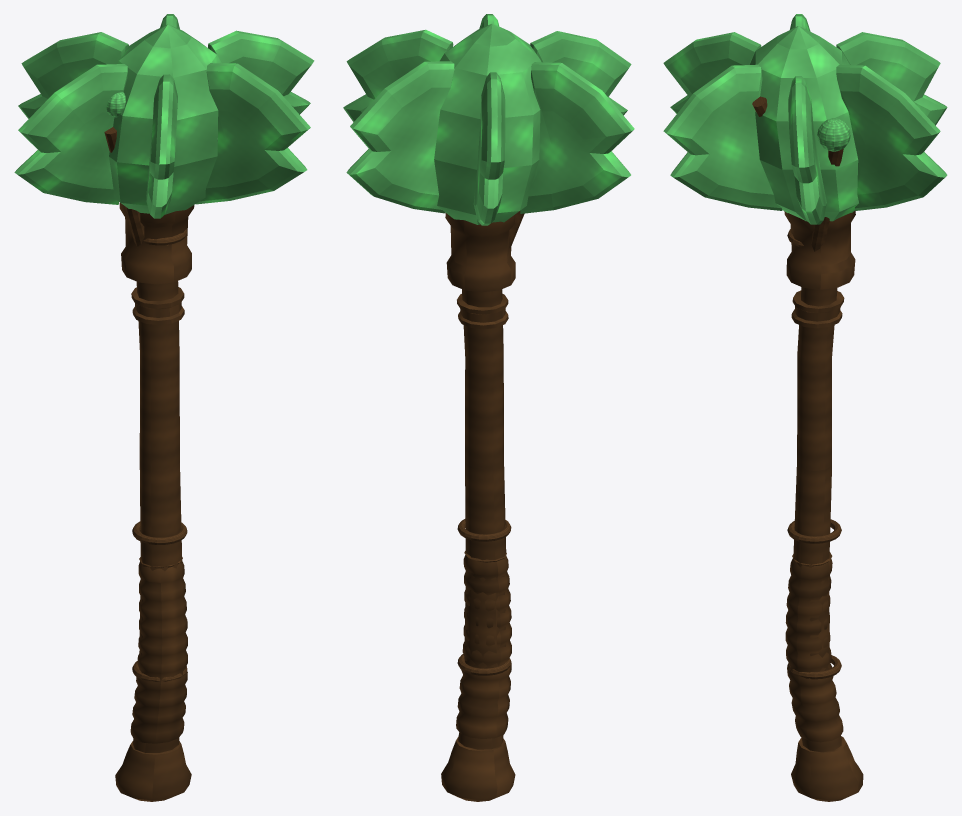
Rendered from underworld-weapon-worldroot-club.glb.
3 views of the same model, side by side, from view 1: azimuth 30°, elevation 25°; view 2: azimuth 150°, elevation 25°; view 3: azimuth 270°, elevation 25° (orthographic). The views are drawn at different scales.
Visible parts, largest first — view 1: head-core, haft, striker-5, striker-3, grip-wrap, neck, striker-2, striker-0, striker-4, pommel, worldroot/head-brace-1, worldroot/grip-collar-1; view 2: head-core, haft, striker-3, striker-1, grip-wrap, neck, striker-0, striker-2, pommel, striker-4, worldroot/grip-collar-1; view 3: head-core, striker-5, striker-1, haft, grip-wrap, neck, striker-2, striker-0, striker-4, pommel, worldroot/spore-node-0, worldroot/head-brace-0 (+1 smaller).
Boxes of the visible parts, x1=… form: head-core: x1=109, y1=24, x2=221, y2=214; haft: x1=133, y1=281, x2=182, y2=752; striker-5: x1=196, y1=63, x2=310, y2=204; striker-3: x1=14, y1=64, x2=127, y2=204; grip-wrap: x1=130, y1=557, x2=187, y2=743; neck: x1=119, y1=203, x2=194, y2=325; striker-2: x1=18, y1=32, x2=128, y2=118; striker-0: x1=208, y1=30, x2=314, y2=114; striker-4: x1=146, y1=74, x2=177, y2=218; pommel: x1=115, y1=741, x2=191, y2=801; worldroot/head-brace-1: x1=104, y1=127, x2=144, y2=246; worldroot/grip-collar-1: x1=132, y1=521, x2=187, y2=544; head-core: x1=434, y1=23, x2=541, y2=224; haft: x1=458, y1=289, x2=506, y2=749; striker-3: x1=520, y1=62, x2=634, y2=213; striker-1: x1=346, y1=61, x2=454, y2=213; grip-wrap: x1=456, y1=551, x2=511, y2=738; neck: x1=445, y1=213, x2=515, y2=329; striker-0: x1=343, y1=29, x2=453, y2=121; striker-2: x1=473, y1=72, x2=505, y2=225; pommel: x1=441, y1=736, x2=515, y2=801; striker-4: x1=530, y1=31, x2=631, y2=115; worldroot/grip-collar-1: x1=457, y1=519, x2=511, y2=541; head-core: x1=750, y1=26, x2=858, y2=221; striker-5: x1=663, y1=64, x2=782, y2=210; striker-1: x1=836, y1=64, x2=947, y2=210; haft: x1=793, y1=287, x2=841, y2=752; grip-wrap: x1=785, y1=552, x2=843, y2=742; neck: x1=784, y1=210, x2=855, y2=328; striker-2: x1=836, y1=32, x2=947, y2=125; striker-0: x1=788, y1=76, x2=826, y2=224; striker-4: x1=663, y1=32, x2=761, y2=113; pommel: x1=791, y1=736, x2=863, y2=801; worldroot/spore-node-0: x1=817, y1=118, x2=850, y2=151; worldroot/head-brace-0: x1=811, y1=148, x2=843, y2=251.
Bounding box in the file's own units: 0.5124 × 1.3 × 0.4371.
2 materials, 2 textured.
